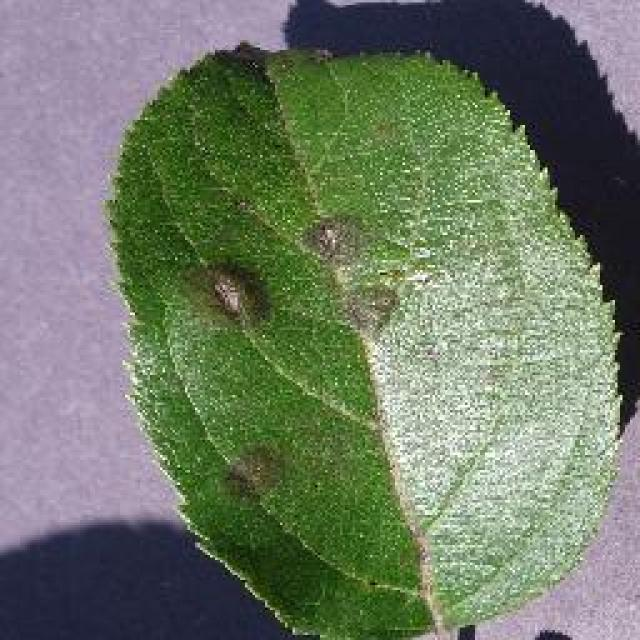apple scab disease: (102, 35, 628, 637)
